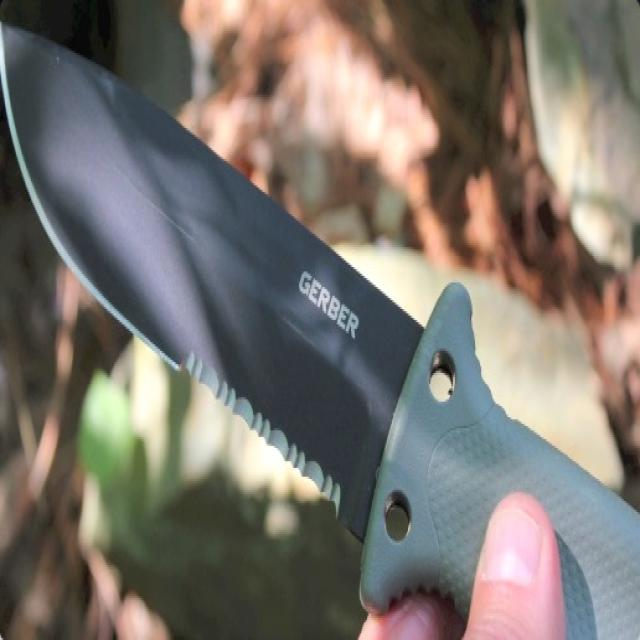knife: (2, 12, 640, 640)
